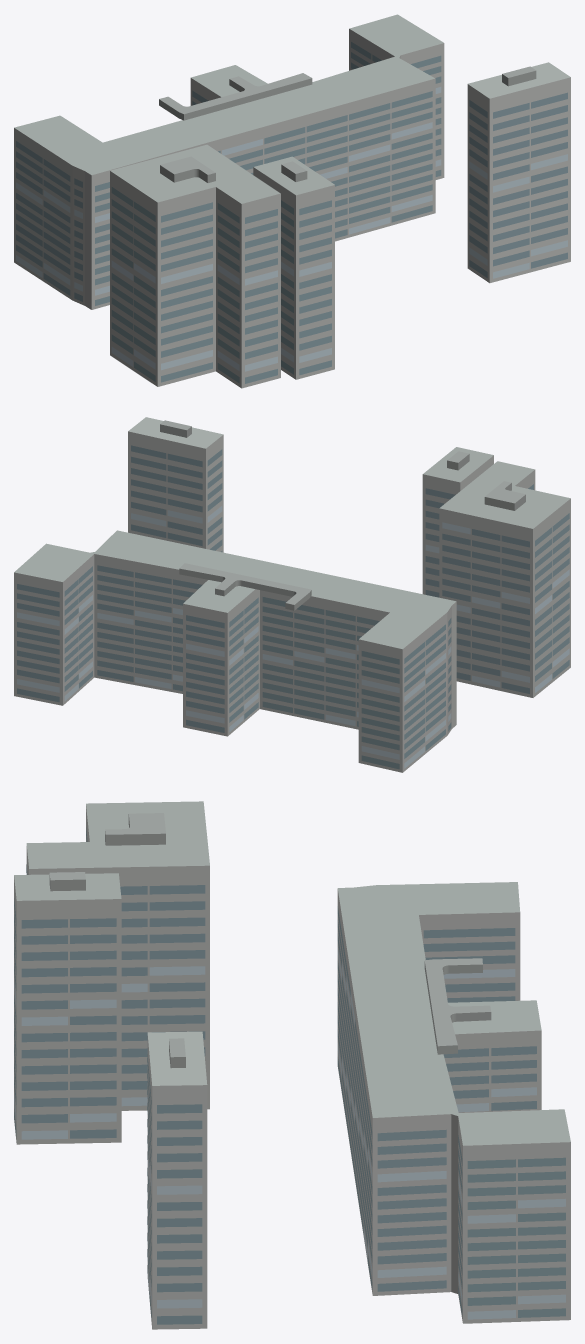
The model's file is apt-a15791001.glb.
3 views of the same model, one above another, from view 1: azimuth 30°, elevation 25°; view 2: azimuth 150°, elevation 25°; view 3: azimuth 270°, elevation 25° (orthographic). The views are drawn at different scales.
Visible parts, largest first — view 1: apt-a15791001; view 2: apt-a15791001; view 3: apt-a15791001.
Part boxes in pixels (x1,y1,x2,y2): apt-a15791001: [14, 14, 570, 388]; apt-a15791001: [14, 417, 570, 772]; apt-a15791001: [14, 801, 570, 1329].
Bounding box in the file's own units: 115 × 47.81 × 94.8.
